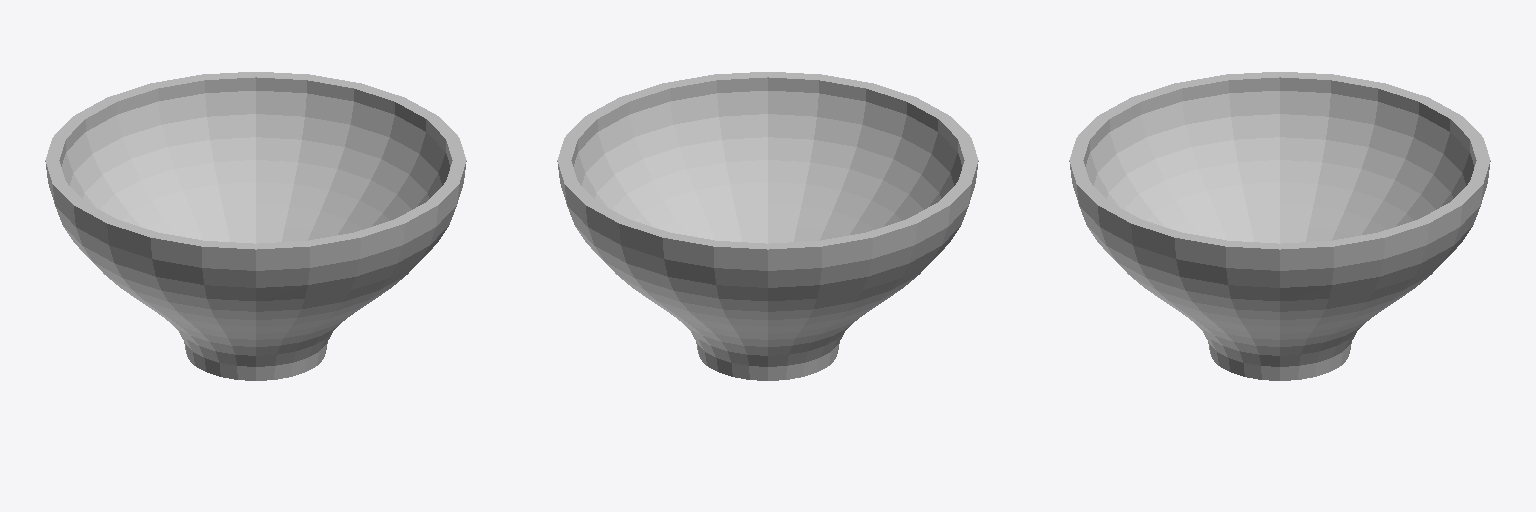
Rendered from hopper3.obj.
3 renders of one model, left to right at view 1: azimuth 30°, elevation 25°; view 2: azimuth 150°, elevation 25°; view 3: azimuth 270°, elevation 25°, orthographic.
Parts seen in each view (by area): view 1: Hopper3_Mesh.002; view 2: Hopper3_Mesh.002; view 3: Hopper3_Mesh.002.
Part boxes in pixels (x1,y1,x2,y2): Hopper3_Mesh.002: (45, 72, 466, 380); Hopper3_Mesh.002: (557, 72, 978, 380); Hopper3_Mesh.002: (1069, 72, 1490, 380).
Size of the model in its own units: 6 by 3 by 6.